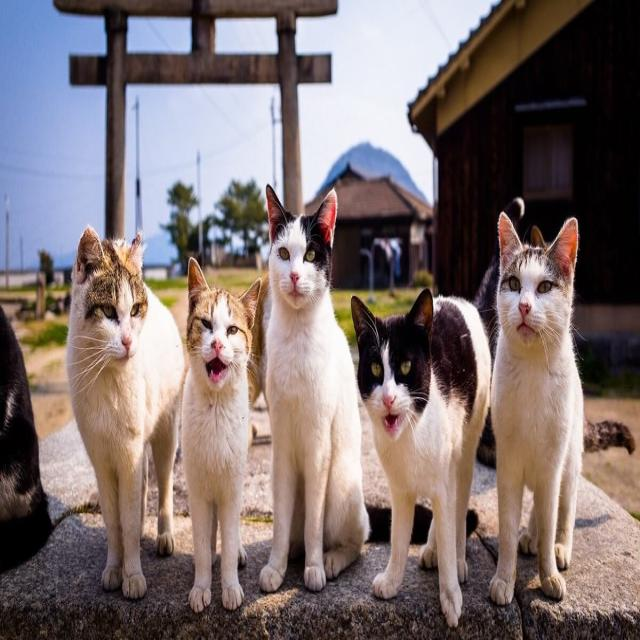cat: (351, 289, 491, 627), (260, 187, 369, 591), (66, 227, 184, 598), (490, 213, 584, 604), (181, 258, 261, 612), (0, 307, 51, 572), (474, 240, 500, 361), (584, 418, 635, 453), (476, 409, 496, 466), (504, 198, 525, 230)
